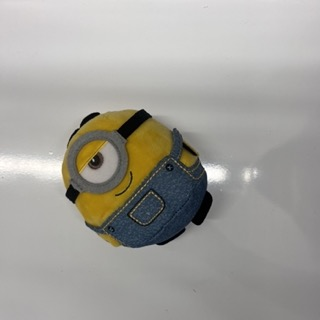minion: (62, 110, 212, 250)
